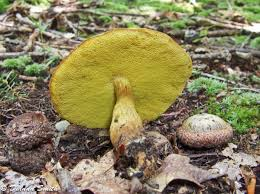boletus_poisinous: (33, 24, 212, 139)
